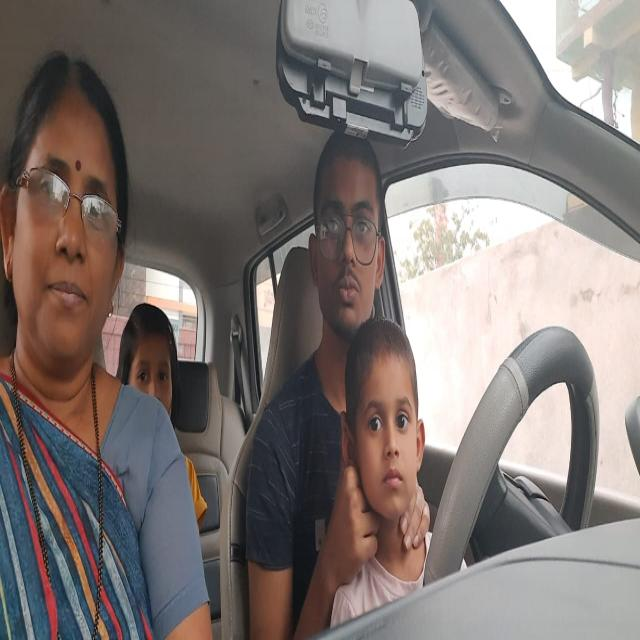child: (336, 321, 426, 519)
person: (6, 55, 128, 373), (314, 135, 384, 320), (120, 296, 180, 432)
